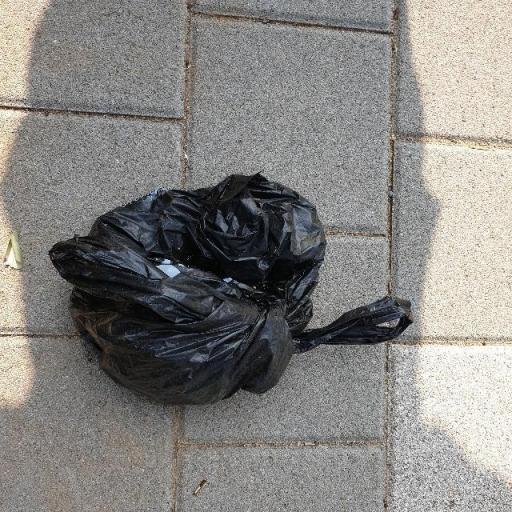plastic-bag: (44, 170, 416, 414)
